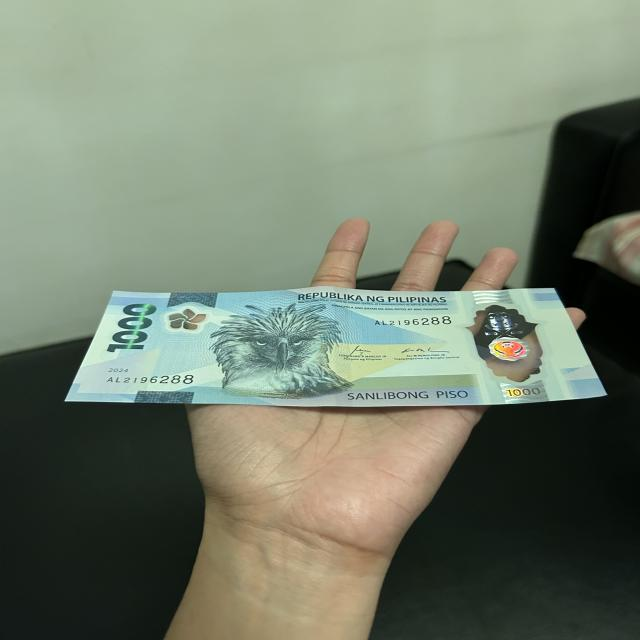clear_window: (467, 301, 543, 388)
eagle: (218, 303, 346, 404)
sampaguita: (169, 305, 208, 334)
